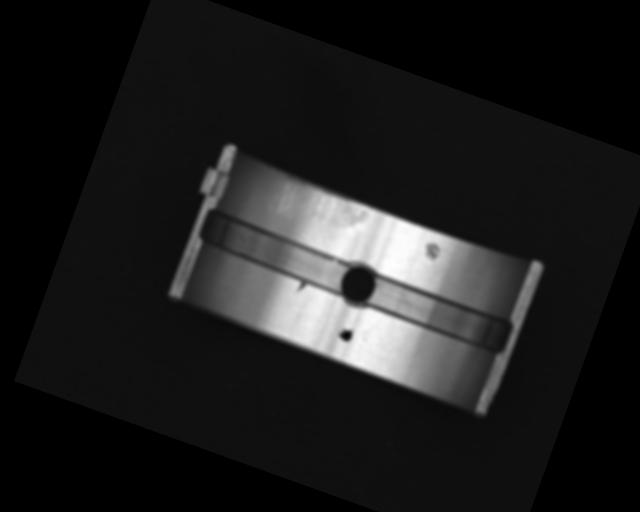blot: (336, 324, 355, 344)
bruise: (419, 239, 444, 264), (295, 280, 309, 295)
gap: (197, 206, 355, 296), (360, 270, 517, 358)
hole: (332, 256, 382, 311)
nick: (289, 299, 307, 333)
scratch: (268, 173, 373, 239)
